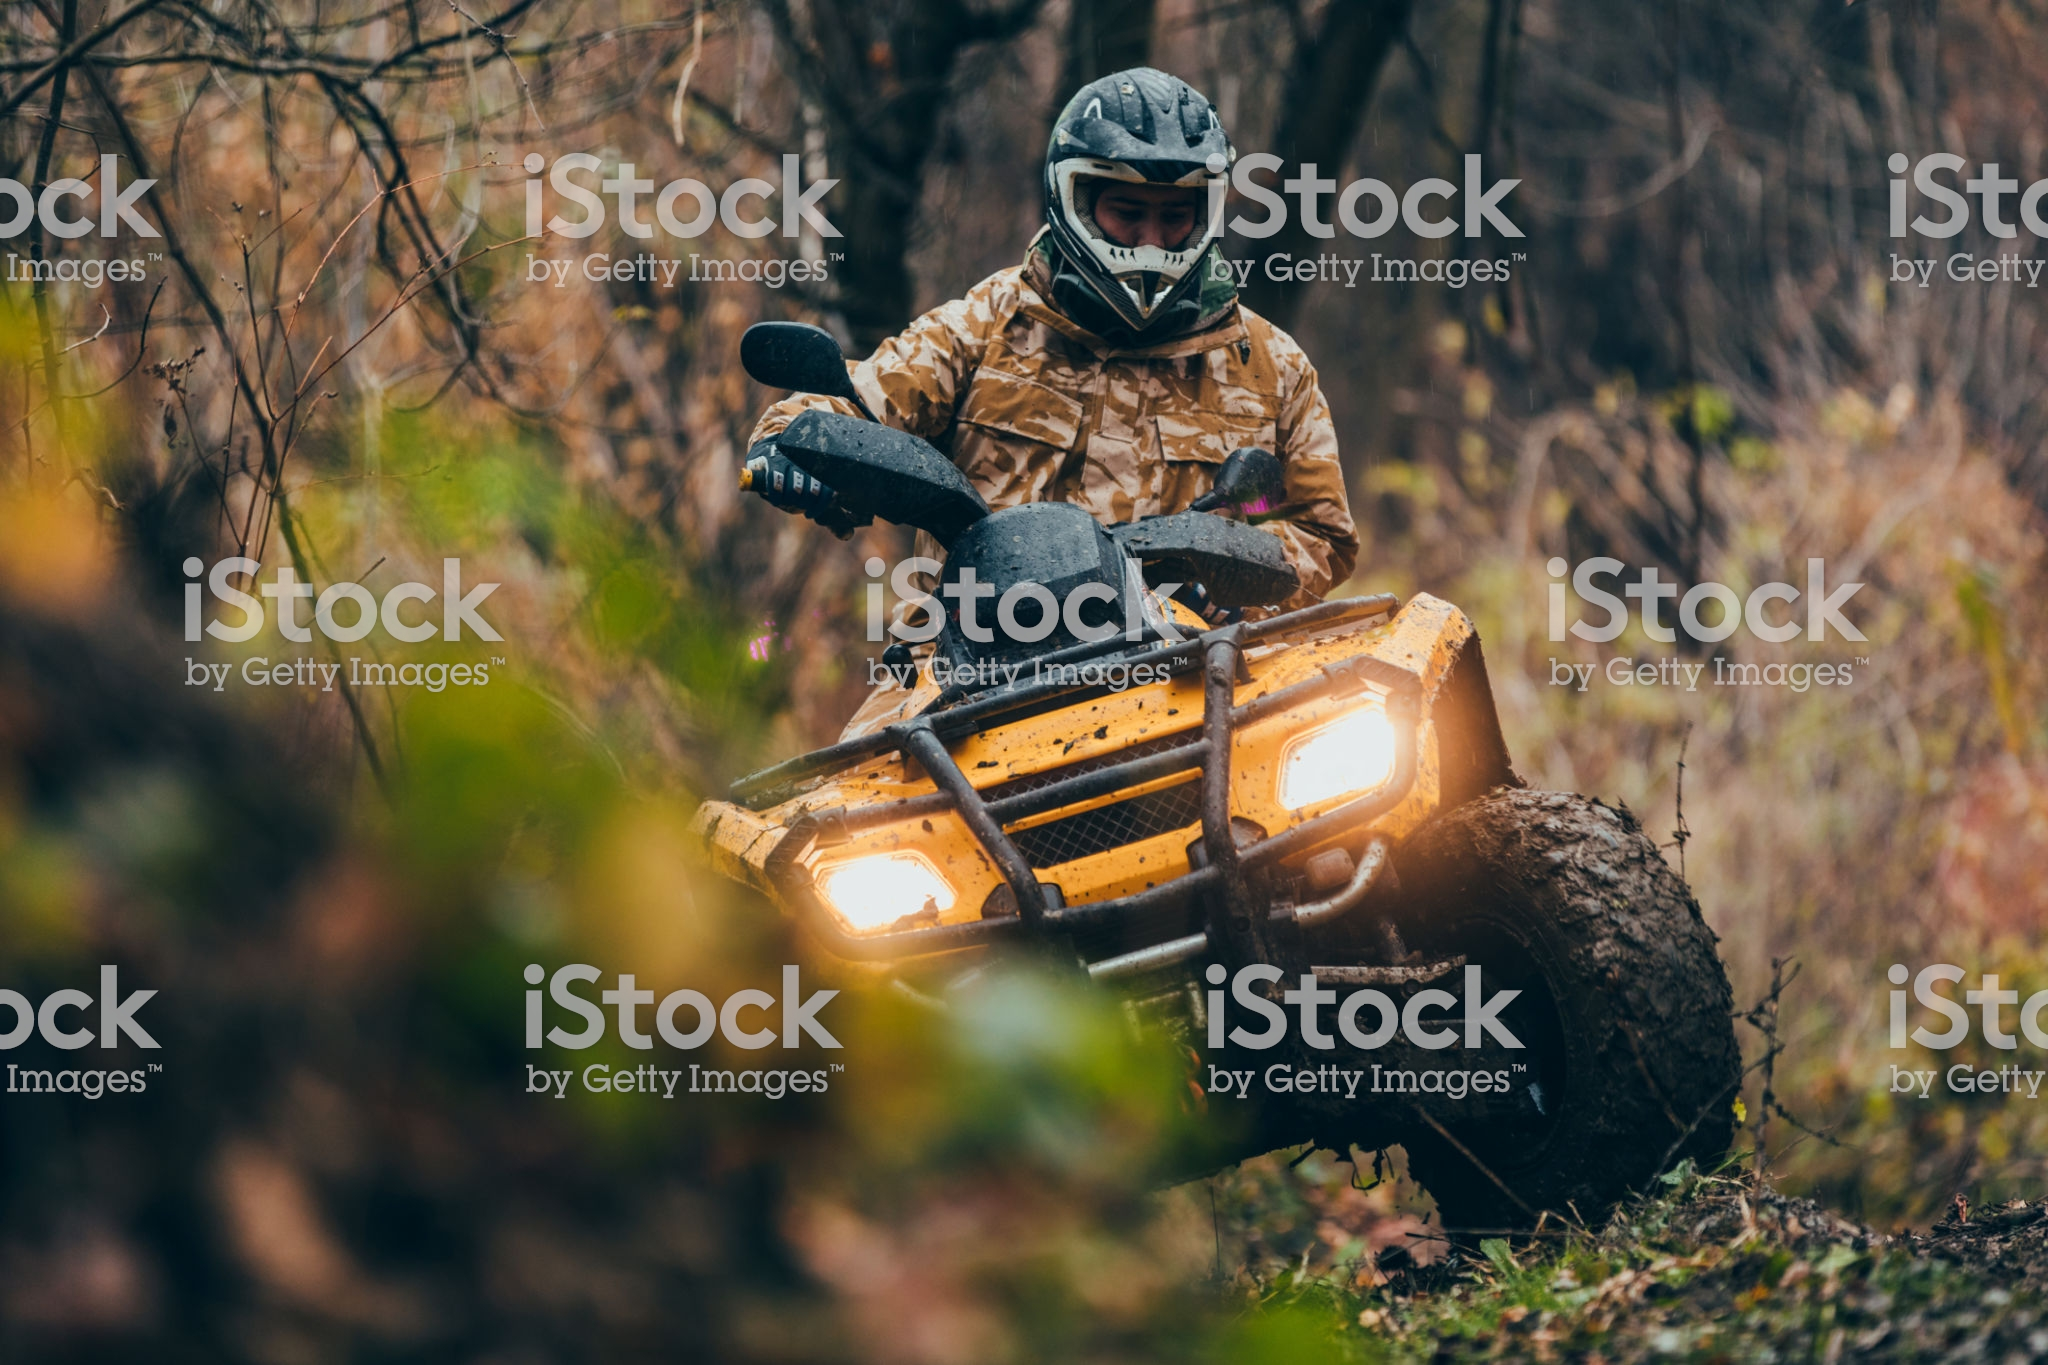helmet: (1045, 53, 1229, 318)
